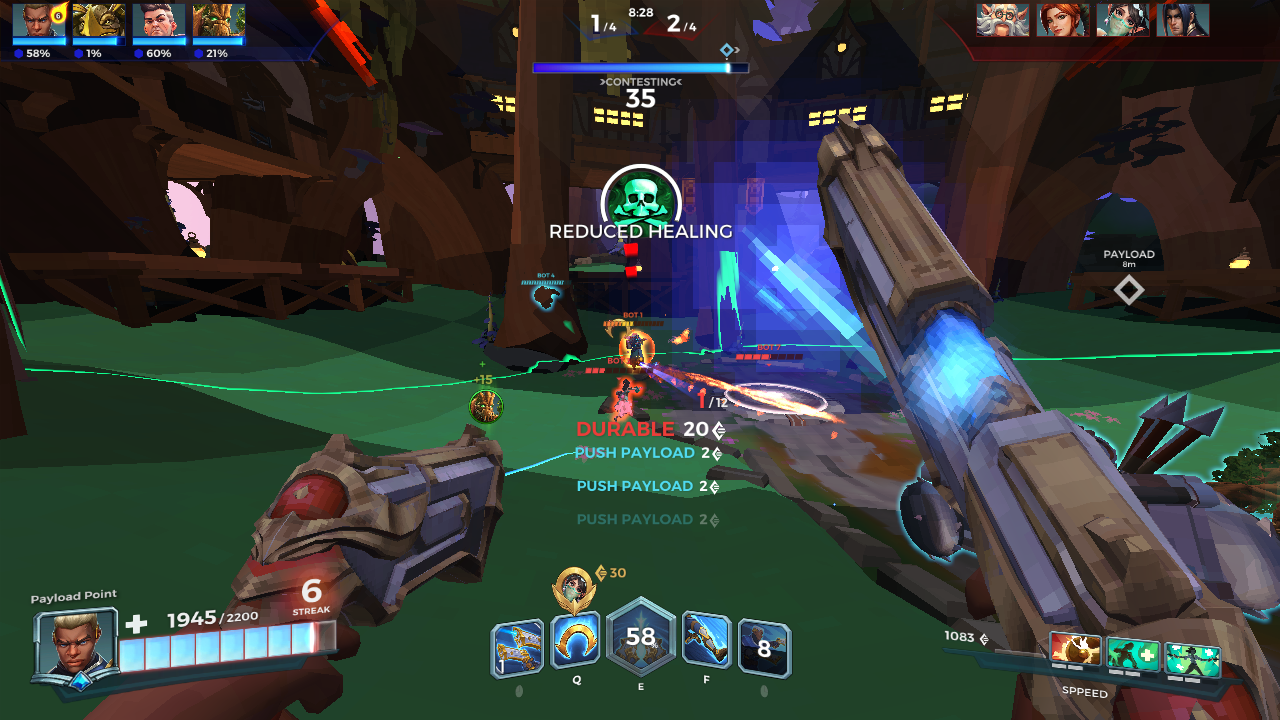model: (613, 378, 637, 421), (624, 329, 644, 366)
